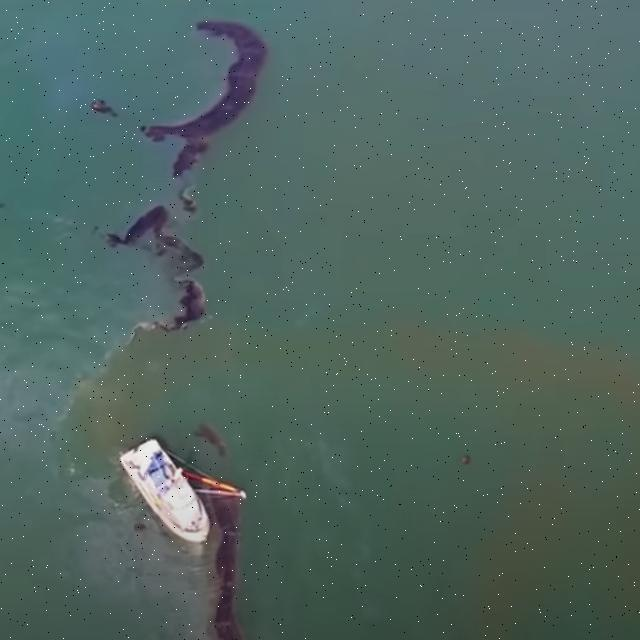oil: (82, 0, 281, 345)
